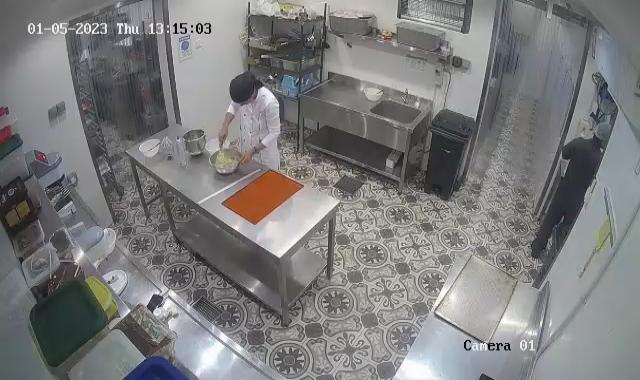hairnet: (590, 120, 612, 148)
no_hairnet: (230, 70, 261, 106)
